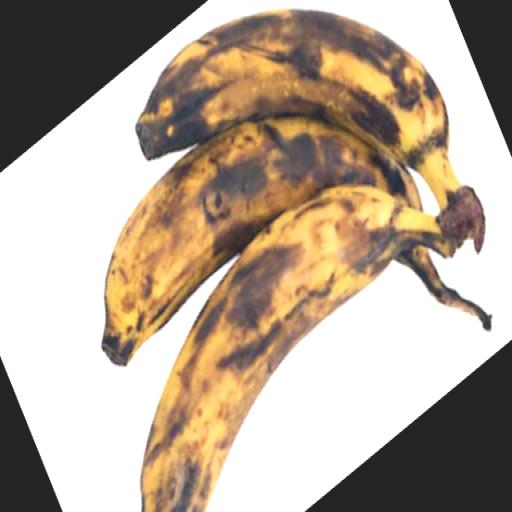banana-overripe: (80, 0, 495, 512)
